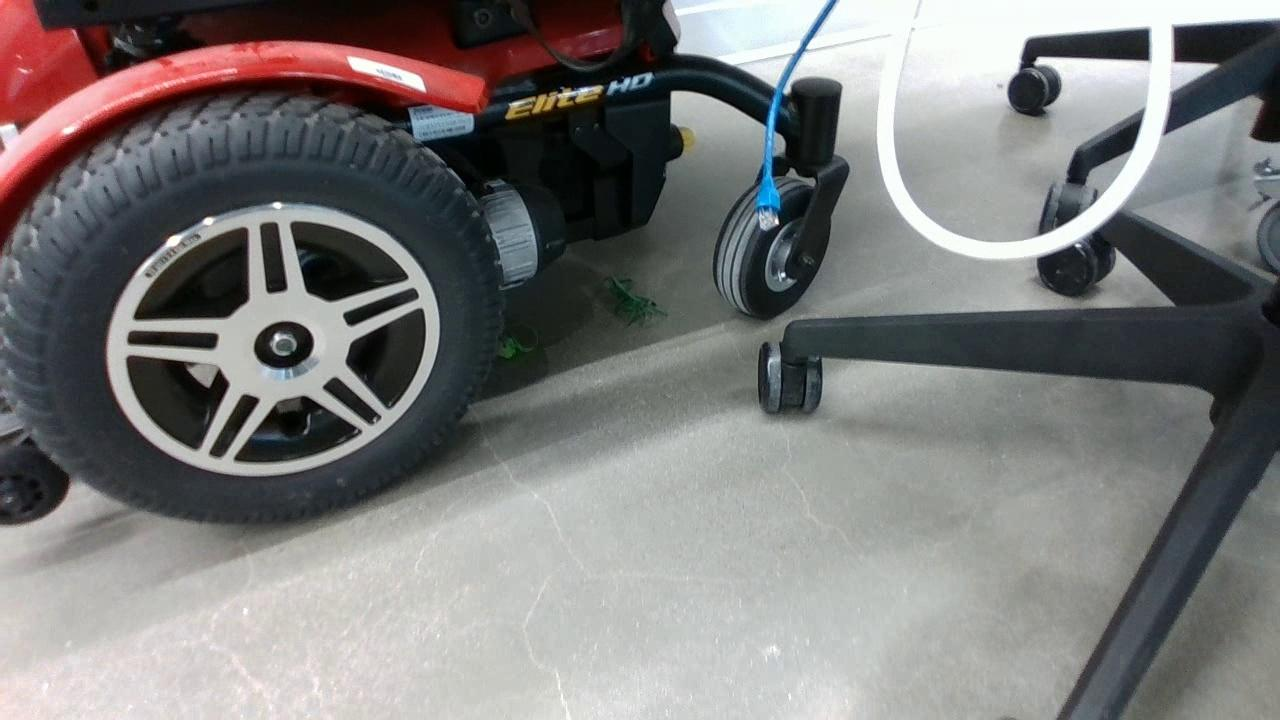grasshopper: (493, 326, 546, 361)
